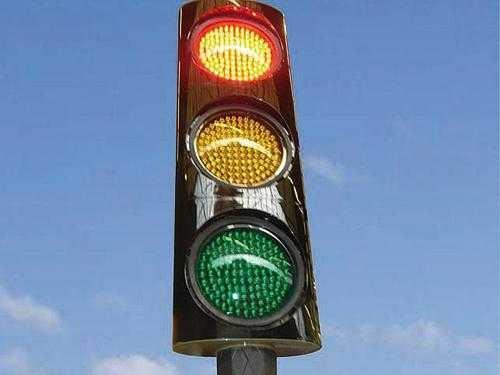red: (177, 7, 320, 348), (187, 14, 285, 88)
